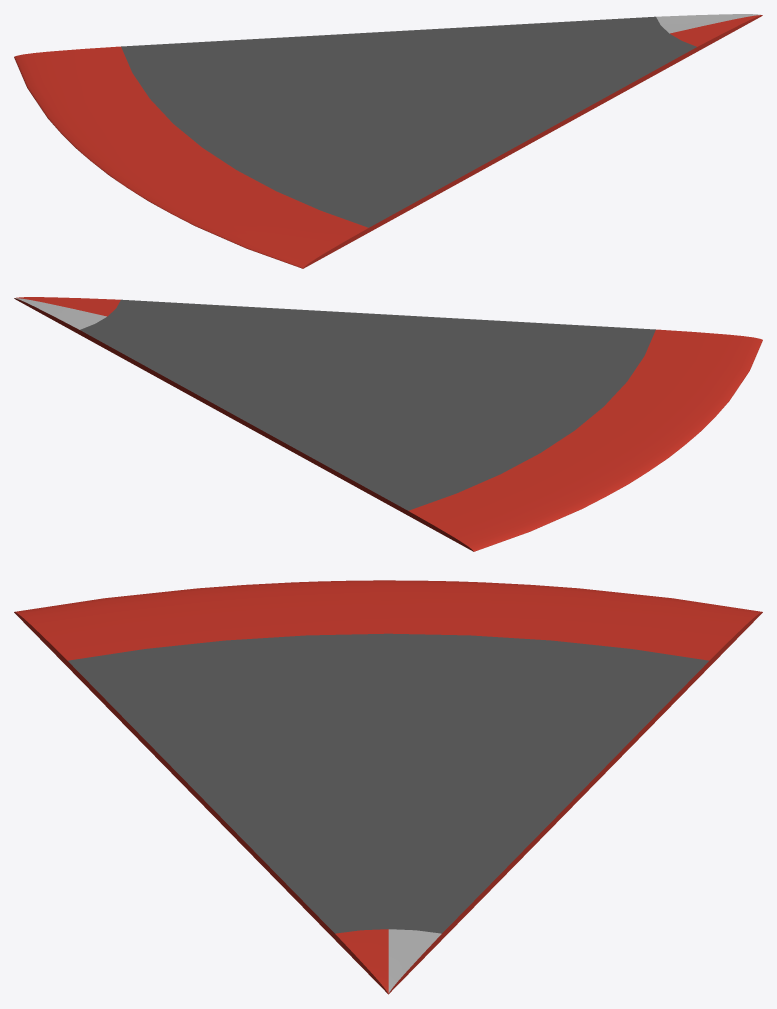
Rendered from ViragePetit.fbx.
3 views of the same model, one above another, from view 1: azimuth 30°, elevation 25°; view 2: azimuth 150°, elevation 25°; view 3: azimuth 270°, elevation 25° (orthographic). The views are drawn at different scales.
Parts seen in each view (by area): view 1: Body16; view 2: Body16; view 3: Body16.
Boxes of the visible parts, x1,y1,x2,y2 form: Body16: (14,14,762,268); Body16: (14,297,762,551); Body16: (14,580,762,994).
Bounding box in the file's own units: 14 × 0.1 × 10.72.
